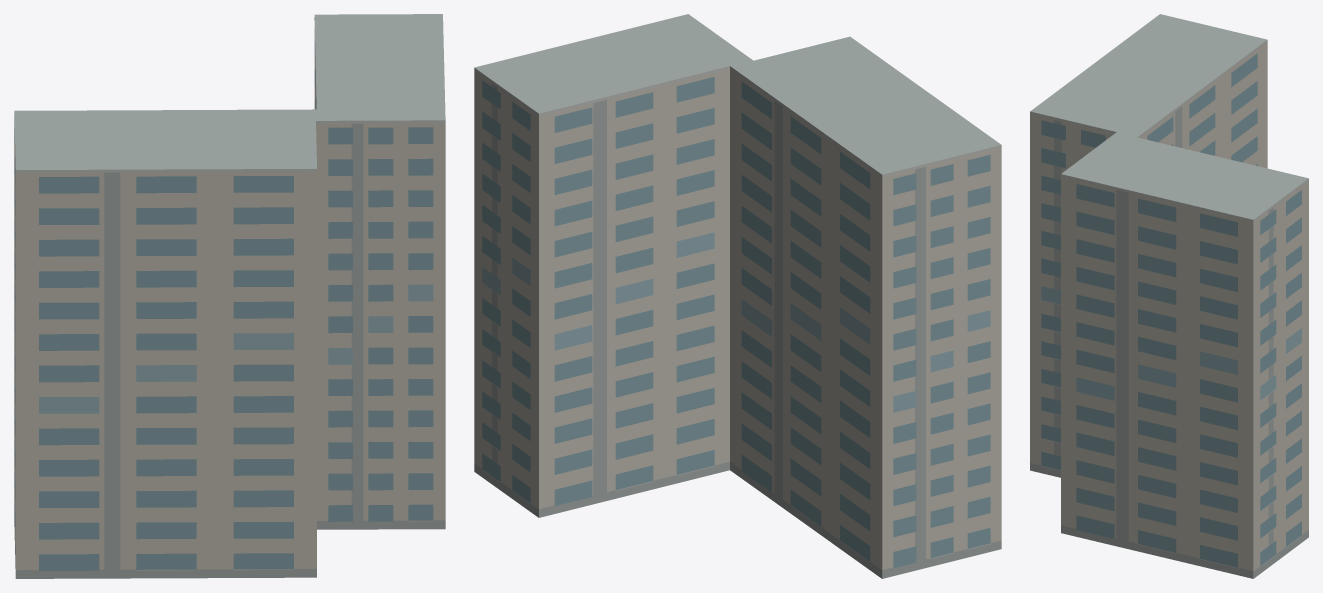
Rendered from residential-80b79f5d-af65-4d7f-a835-20568695ab7e.glb.
The picture shows the model from 3 angles, left to right: view 1: azimuth 30°, elevation 25°; view 2: azimuth 150°, elevation 25°; view 3: azimuth 270°, elevation 25°; orthographic projection. The views are drawn at different scales.
Parts seen in each view (by area): view 1: residential-80b79f5d-af65-4d7f-a835-20568695ab7e.tmp; view 2: residential-80b79f5d-af65-4d7f-a835-20568695ab7e.tmp; view 3: residential-80b79f5d-af65-4d7f-a835-20568695ab7e.tmp.
Boxes of the visible parts, bbox=[...] form: residential-80b79f5d-af65-4d7f-a835-20568695ab7e.tmp: bbox=[14, 14, 445, 578]; residential-80b79f5d-af65-4d7f-a835-20568695ab7e.tmp: bbox=[474, 14, 1001, 578]; residential-80b79f5d-af65-4d7f-a835-20568695ab7e.tmp: bbox=[1030, 14, 1308, 578].
Bounding box in the file's own units: 41.82 × 34 × 23.93.
